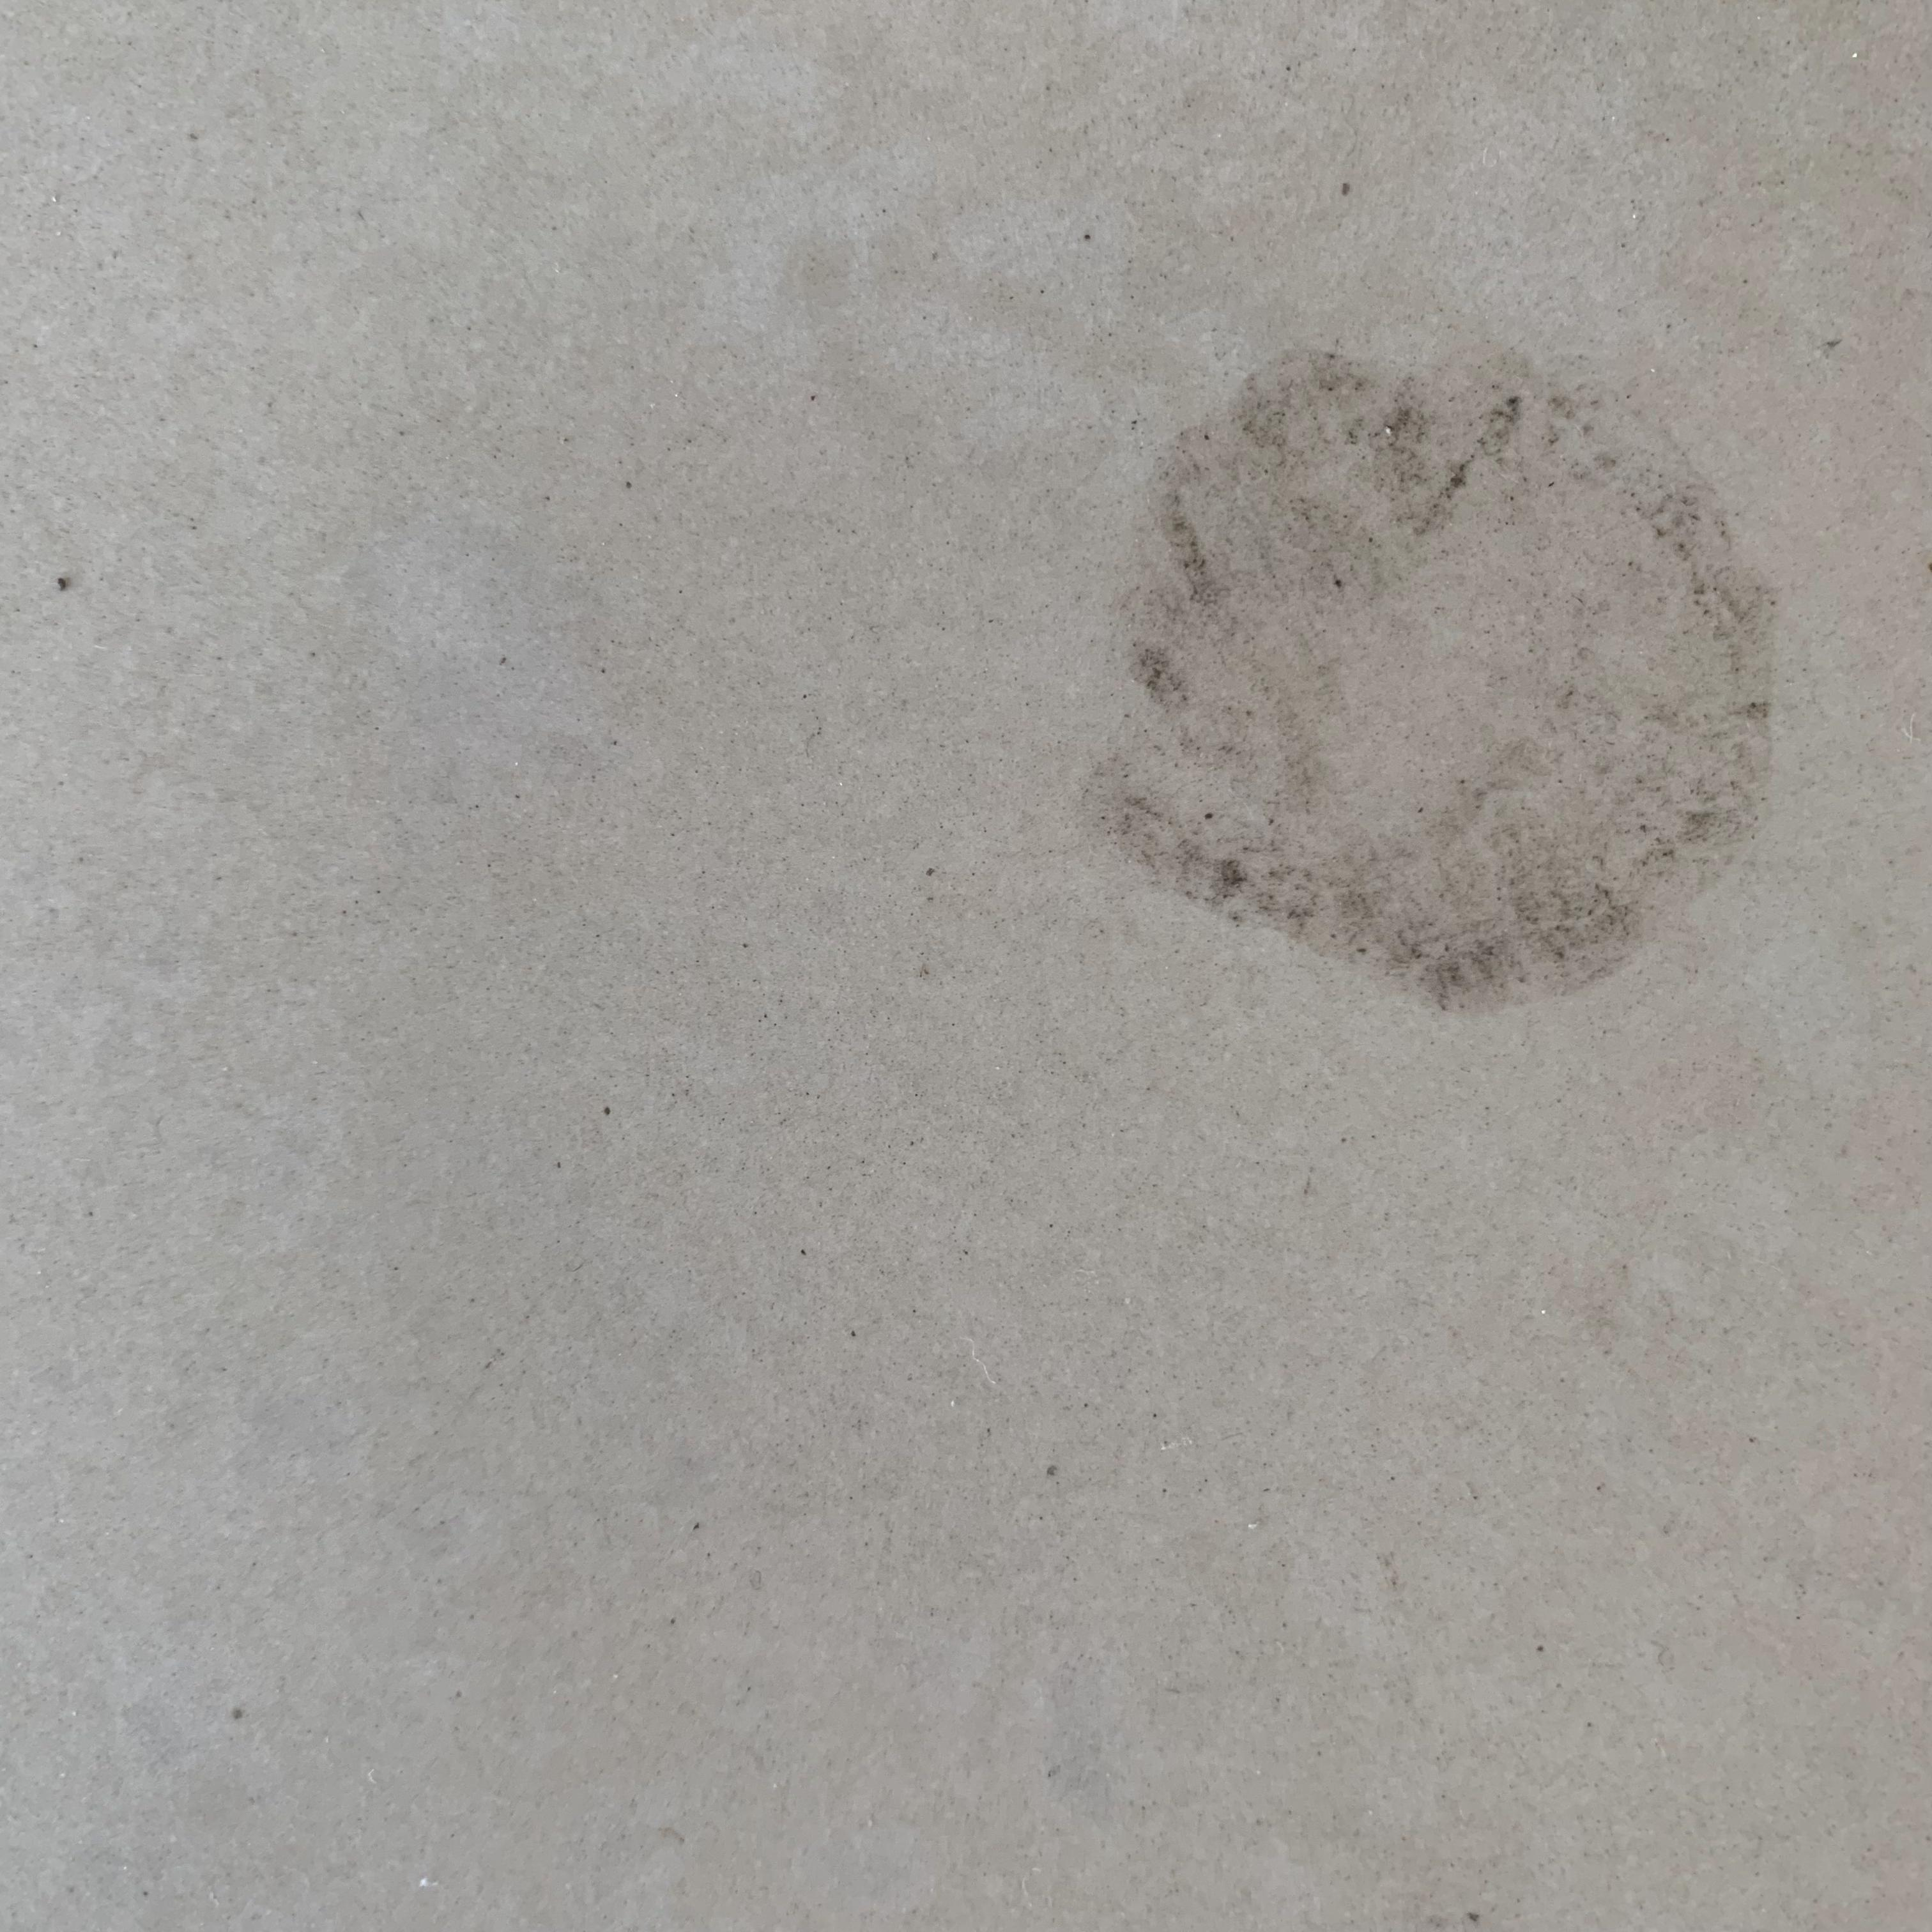grey spot: (1079, 347, 1773, 1021)
